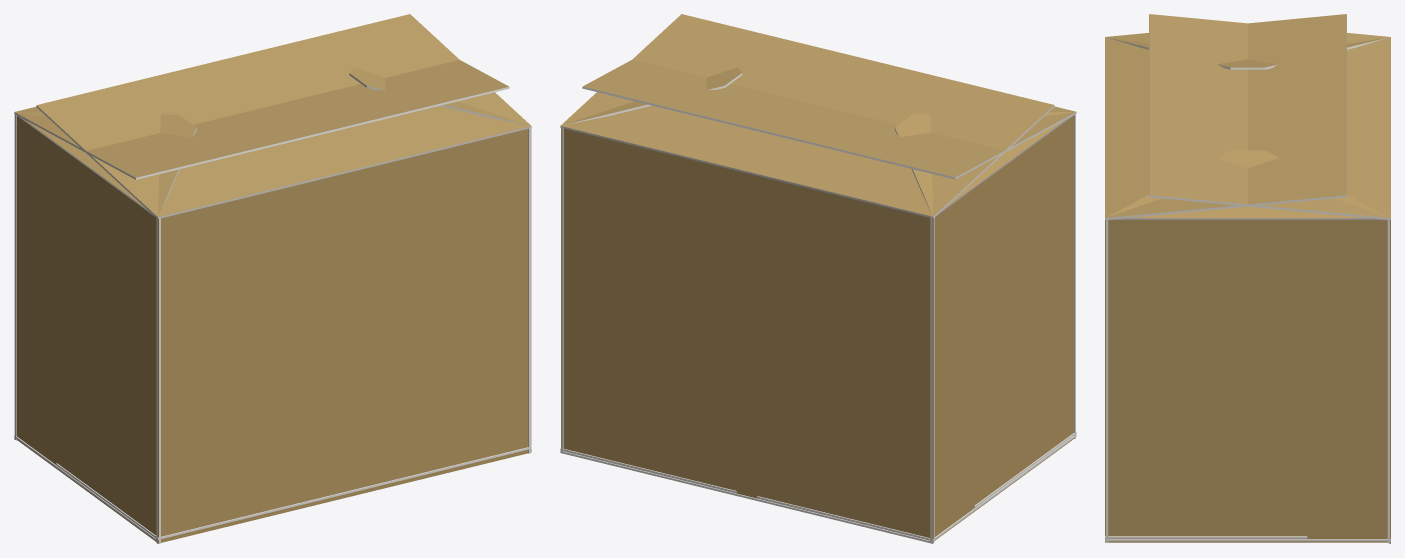
3 renders of one model, left to right at view 1: azimuth 30°, elevation 25°; view 2: azimuth 150°, elevation 25°; view 3: azimuth 270°, elevation 25°, orthographic.
Visible parts, largest first — view 1: Packive_Box_fefco0217; view 2: Packive_Box_fefco0217; view 3: Packive_Box_fefco0217.
Part boxes in pixels (<box>): Packive_Box_fefco0217: <box>14,14,531,543</box>; Packive_Box_fefco0217: <box>560,14,1076,543</box>; Packive_Box_fefco0217: <box>1105,14,1390,543</box>.
Bounding box in the file's own units: 0.3 × 0.2693 × 0.2.
Materials: 26 (13 with a texture image).
